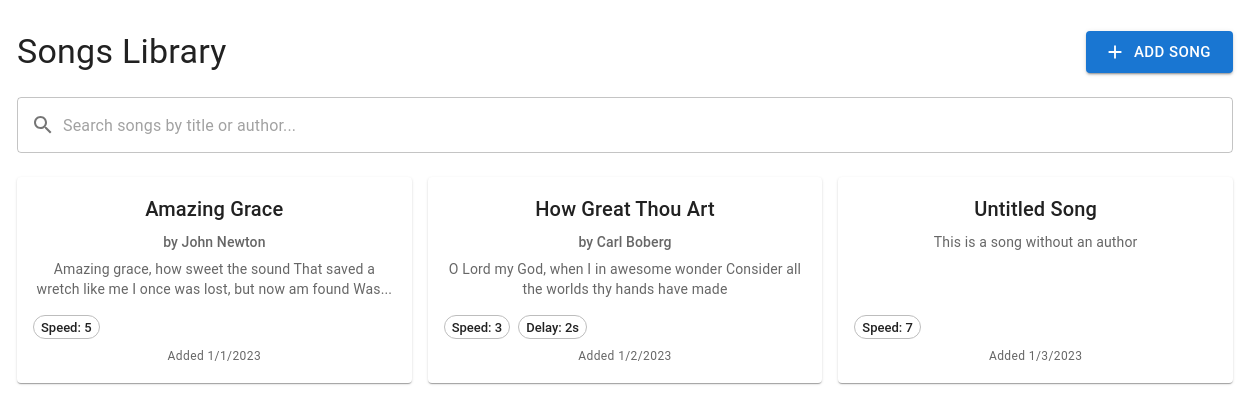
Test: SongsListPage › Search Functionality › should clear search when "Clear Search" button is clicked
The image size is (1251, 410).
Type "nonexistent" into the field with placeholder "Search songs by title or author...".
click(648, 125); type("nonexistent")  # box [63,97,1233,153]
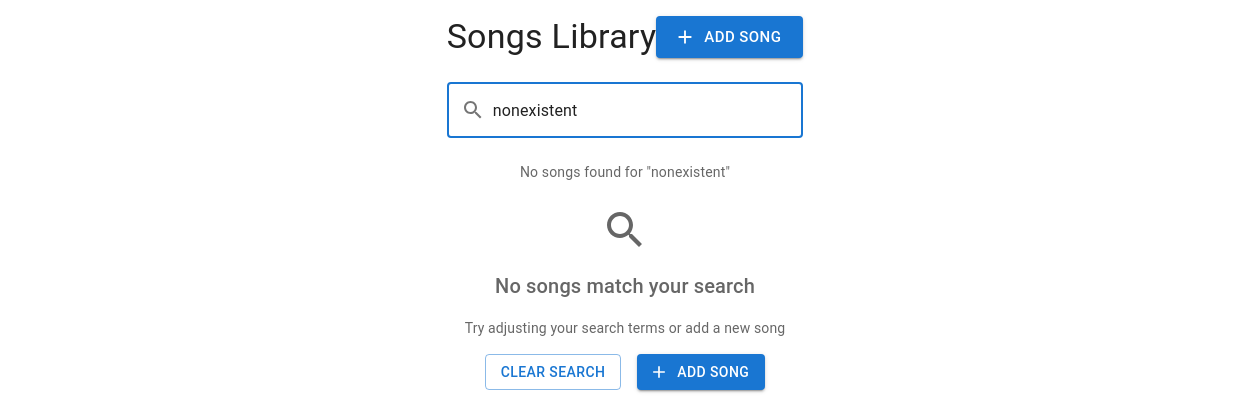
Now the heading "No songs match your search" is shown, box [495,270,755,302]
Click the button "Clear Search".
click(553, 372)  # box [485,354,621,390]
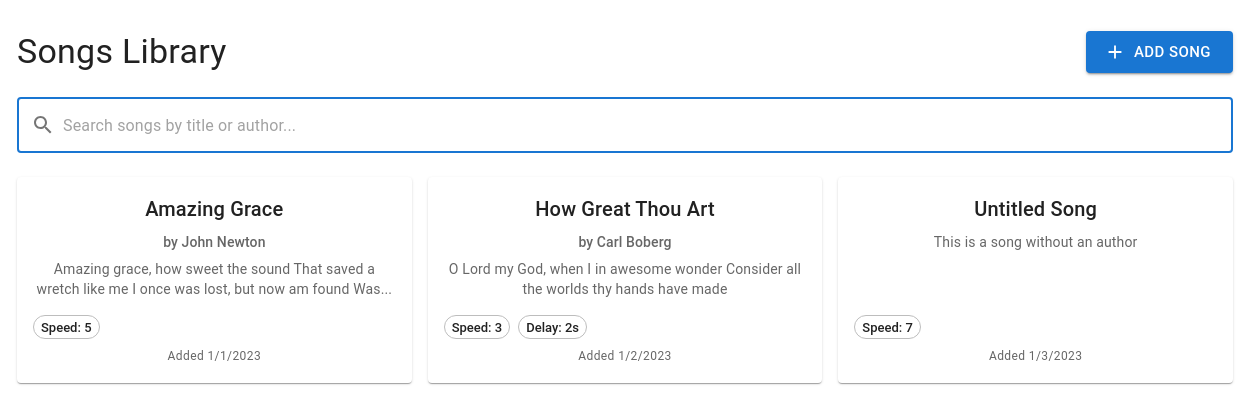
Now the field with placeholder "Search songs by title or author..." is empty, box [63,97,1233,153]
Now the heading "Amazing Grace" is shown, box [145,197,283,221]
Now the heading "How Great Thou Art" is shown, box [535,197,715,221]
